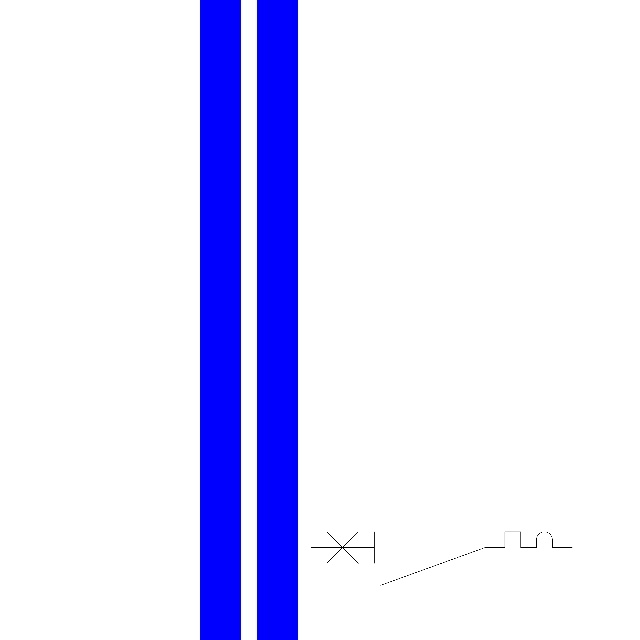interruptor_termomagnetico: (304, 525, 579, 592)
